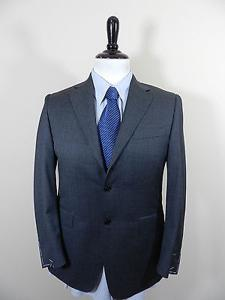F_M_suit jacket: (25, 76, 192, 281)
F_tie: (95, 84, 122, 162)
